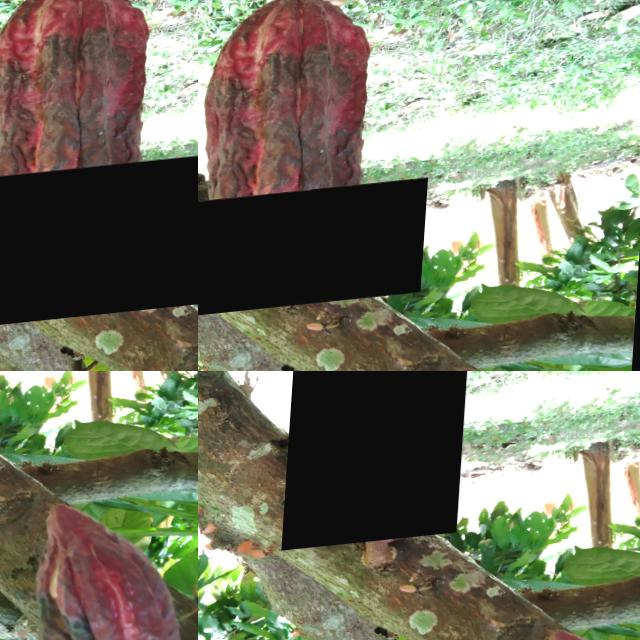Fitoftora: (286, 371, 476, 554), (198, 186, 432, 328)
Monilia: (0, 158, 198, 344)
Sana: (198, 71, 269, 116)
